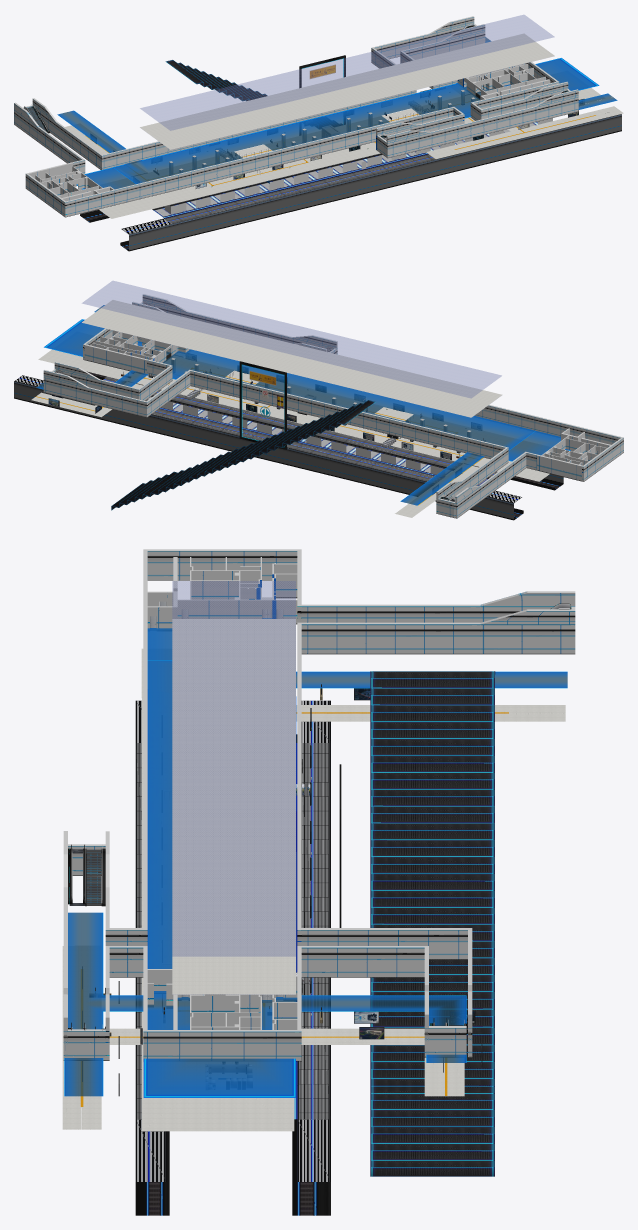
Rendered from subway.glb.
The picture shows the model from 3 angles, top to bottom: view 1: azimuth 30°, elevation 25°; view 2: azimuth 150°, elevation 25°; view 3: azimuth 270°, elevation 25°; orthographic projection. The views are drawn at different scales.
Visible parts, largest first — view 1: subway_tp_1002_06, subway_tp_1002_12, subway_tp_1002_04_1, subway_tp_1002_04, subway_tp_1002_08, subway_tp_1002_08_1, subway_tp_1002_7_1, subway_tp_1002_10, subway_tpdt_1002_01, subway_tp_1002_011; view 2: subway_tp_1002_06, subway_tp_1002_12, subway_tp_1002_04_1, subway_tp_1002_04, subway_tp_1002_08, subway_tp_1002_08_1, subway_tpdt_1002_01, subway_tp_1002_7_1, subway_tp_1002_10, subway_tp_1002_011; view 3: subway_tp_1002_06, subway_tpdt_1002_01, subway_tp_1002_04_1, subway_tp_1002_04, subway_tp_1002_08, subway_tp_1002_12, subway_tp_1002_08_1, subway_tp_1002_7_1.
Boxes of the visible parts, x1,y1,x2,y2 form: subway_tp_1002_06: (14,16,578,217); subway_tp_1002_12: (80,114,621,251); subway_tp_1002_04_1: (140,33,554,149); subway_tp_1002_04: (140,15,554,130); subway_tp_1002_08: (57,37,617,189); subway_tp_1002_08_1: (65,88,623,218); subway_tp_1002_7_1: (90,89,584,188); subway_tp_1002_10: (164,118,552,214); subway_tpdt_1002_01: (165,60,342,128); subway_tp_1002_011: (299,55,345,134); subway_tp_1002_06: (43,294,623,518); subway_tp_1002_12: (14,371,563,520); subway_tp_1002_04_1: (81,300,502,417); subway_tp_1002_04: (82,281,501,398); subway_tp_1002_08: (36,305,570,505); subway_tp_1002_08_1: (31,349,549,517); subway_tpdt_1002_01: (111,400,375,510); subway_tp_1002_7_1: (48,355,484,494); subway_tp_1002_10: (145,399,444,476); subway_tp_1002_011: (239,361,286,449); subway_tp_1002_06: (63,549,575,1061); subway_tpdt_1002_01: (370,671,495,1176); subway_tp_1002_04_1: (172,619,295,994); subway_tp_1002_04: (172,581,295,956); subway_tp_1002_08: (64,618,567,1097); subway_tp_1002_12: (135,700,330,1215); subway_tp_1002_08_1: (62,648,565,1131); subway_tp_1002_7_1: (82,684,482,1096).
Size of the model in its own units: 1848 by 474 by 740.
43 materials, 39 textured.
